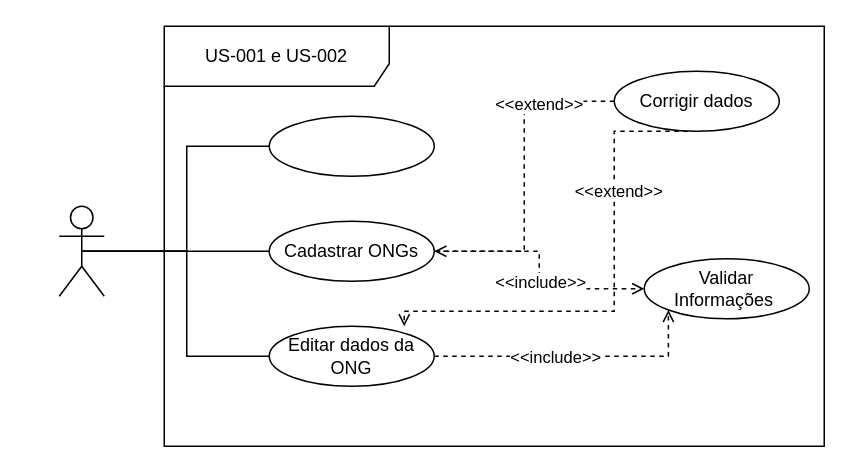
The diagram is 851 pixels wide and 473 high, and some of its shapes have lost their labels. Each missing label, with the centre of its shape:
Administrador da GF: (81,250)
Visualizar ONGs: (351,145)
